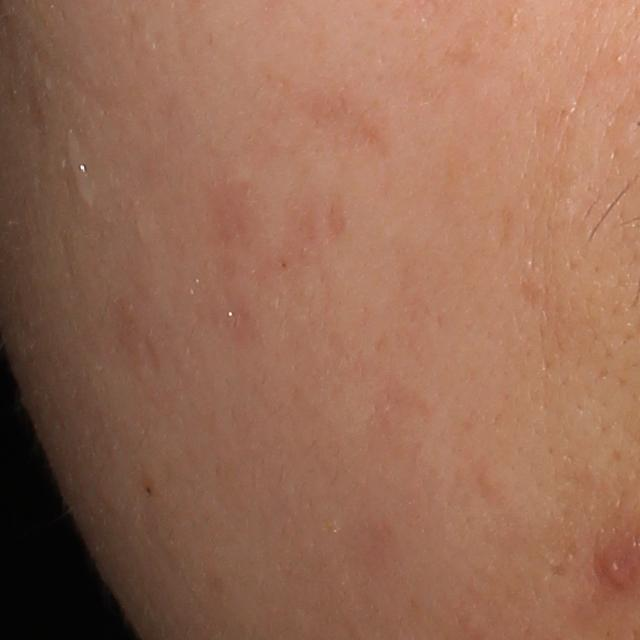papule: (596, 551, 639, 590)
